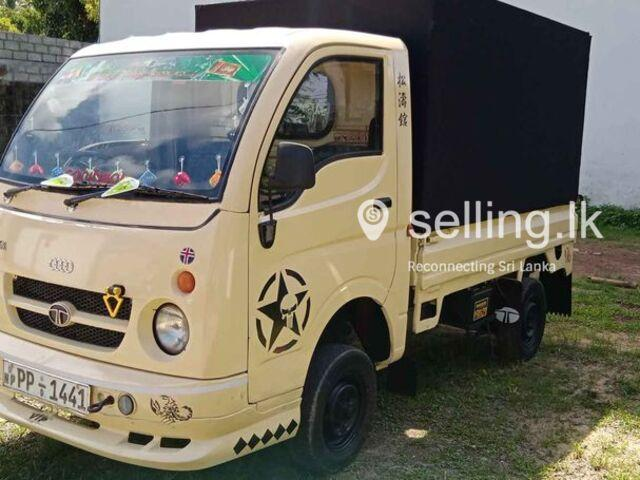truck: (1, 1, 591, 480)
